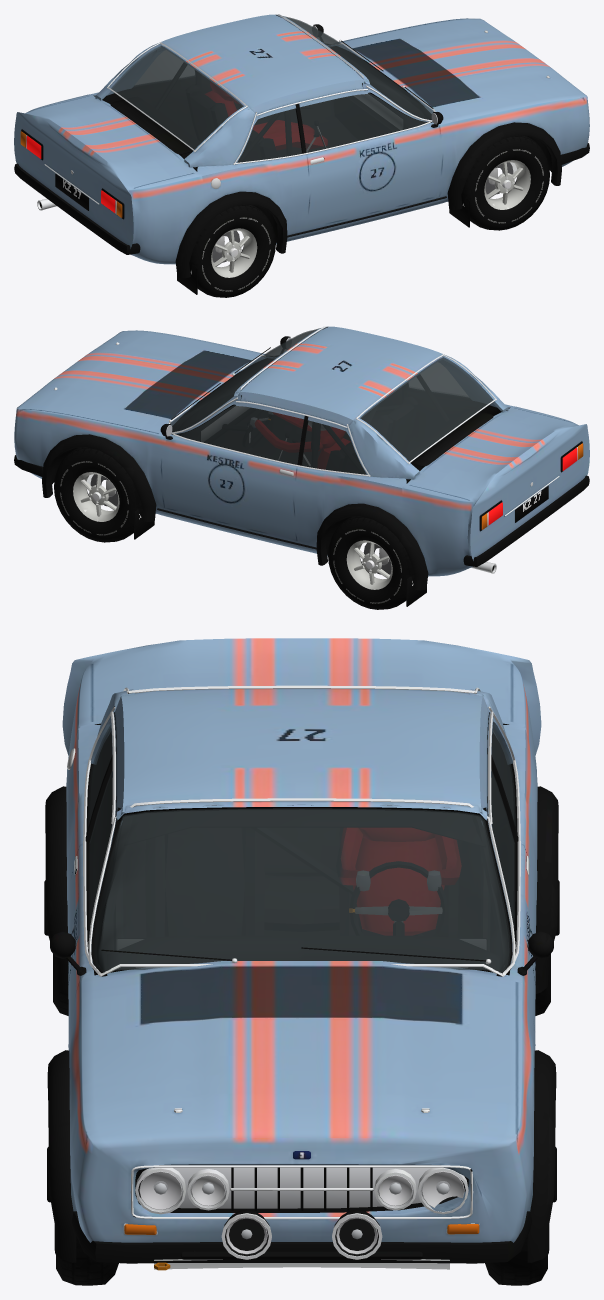
The model's file is kz_kestrel_drive.glb.
3 renders of one model, top to bottom at view 1: azimuth 30°, elevation 25°; view 2: azimuth 150°, elevation 25°; view 3: azimuth 270°, elevation 25°, orthographic. The views are drawn at different scales.
Visible parts, largest first — view 1: body, glass, interior, tyre_FR, window_R, tyre_RR, rim_FR, driver, rim_RR, taillight_lens; view 2: body, glass, interior, tyre_FL, window_L, tyre_RL, rim_FL, driver, rim_RL, taillight_lens; view 3: body, glass, interior, driver, steering_wheel, window_L, window_R, tyre_FL, tyre_FR.
Boxes of the visible parts, left/top/right/bottom form: body: left=14, top=14, right=589, bottom=294; glass: left=111, top=16, right=433, bottom=162; interior: left=110, top=51, right=427, bottom=162; tyre_FR: left=461, top=135, right=549, bottom=230; window_R: left=300, top=93, right=427, bottom=152; tyre_RR: left=189, top=204, right=275, bottom=297; rim_FR: left=484, top=160, right=530, bottom=209; driver: left=205, top=81, right=327, bottom=150; rim_RR: left=211, top=228, right=257, bottom=277; taillight_lens: left=26, top=136, right=115, bottom=212; body: left=14, top=326, right=589, bottom=606; glass: left=170, top=328, right=492, bottom=474; interior: left=176, top=363, right=493, bottom=474; tyre_FL: left=54, top=447, right=142, bottom=542; window_L: left=176, top=405, right=303, bottom=464; tyre_RL: left=328, top=516, right=414, bottom=609; rim_FL: left=73, top=472, right=119, bottom=521; driver: left=250, top=411, right=350, bottom=469; rim_RL: left=346, top=540, right=392, bottom=589; taillight_lens: left=488, top=448, right=577, bottom=524; body: left=44, top=638, right=559, bottom=1270; glass: left=88, top=725, right=515, bottom=1255; interior: left=97, top=810, right=507, bottom=970; driver: left=336, top=828, right=461, bottom=935; steering_wheel: left=349, top=861, right=447, bottom=936; window_L: left=491, top=769, right=514, bottom=931; window_R: left=89, top=769, right=112, bottom=931; tyre_FL: left=485, top=1236, right=547, bottom=1285; tyre_FR: left=56, top=1236, right=118, bottom=1285.
Size of the model in its own units: 4.15 by 1.47 by 1.92.
11 materials, 6 textured.
